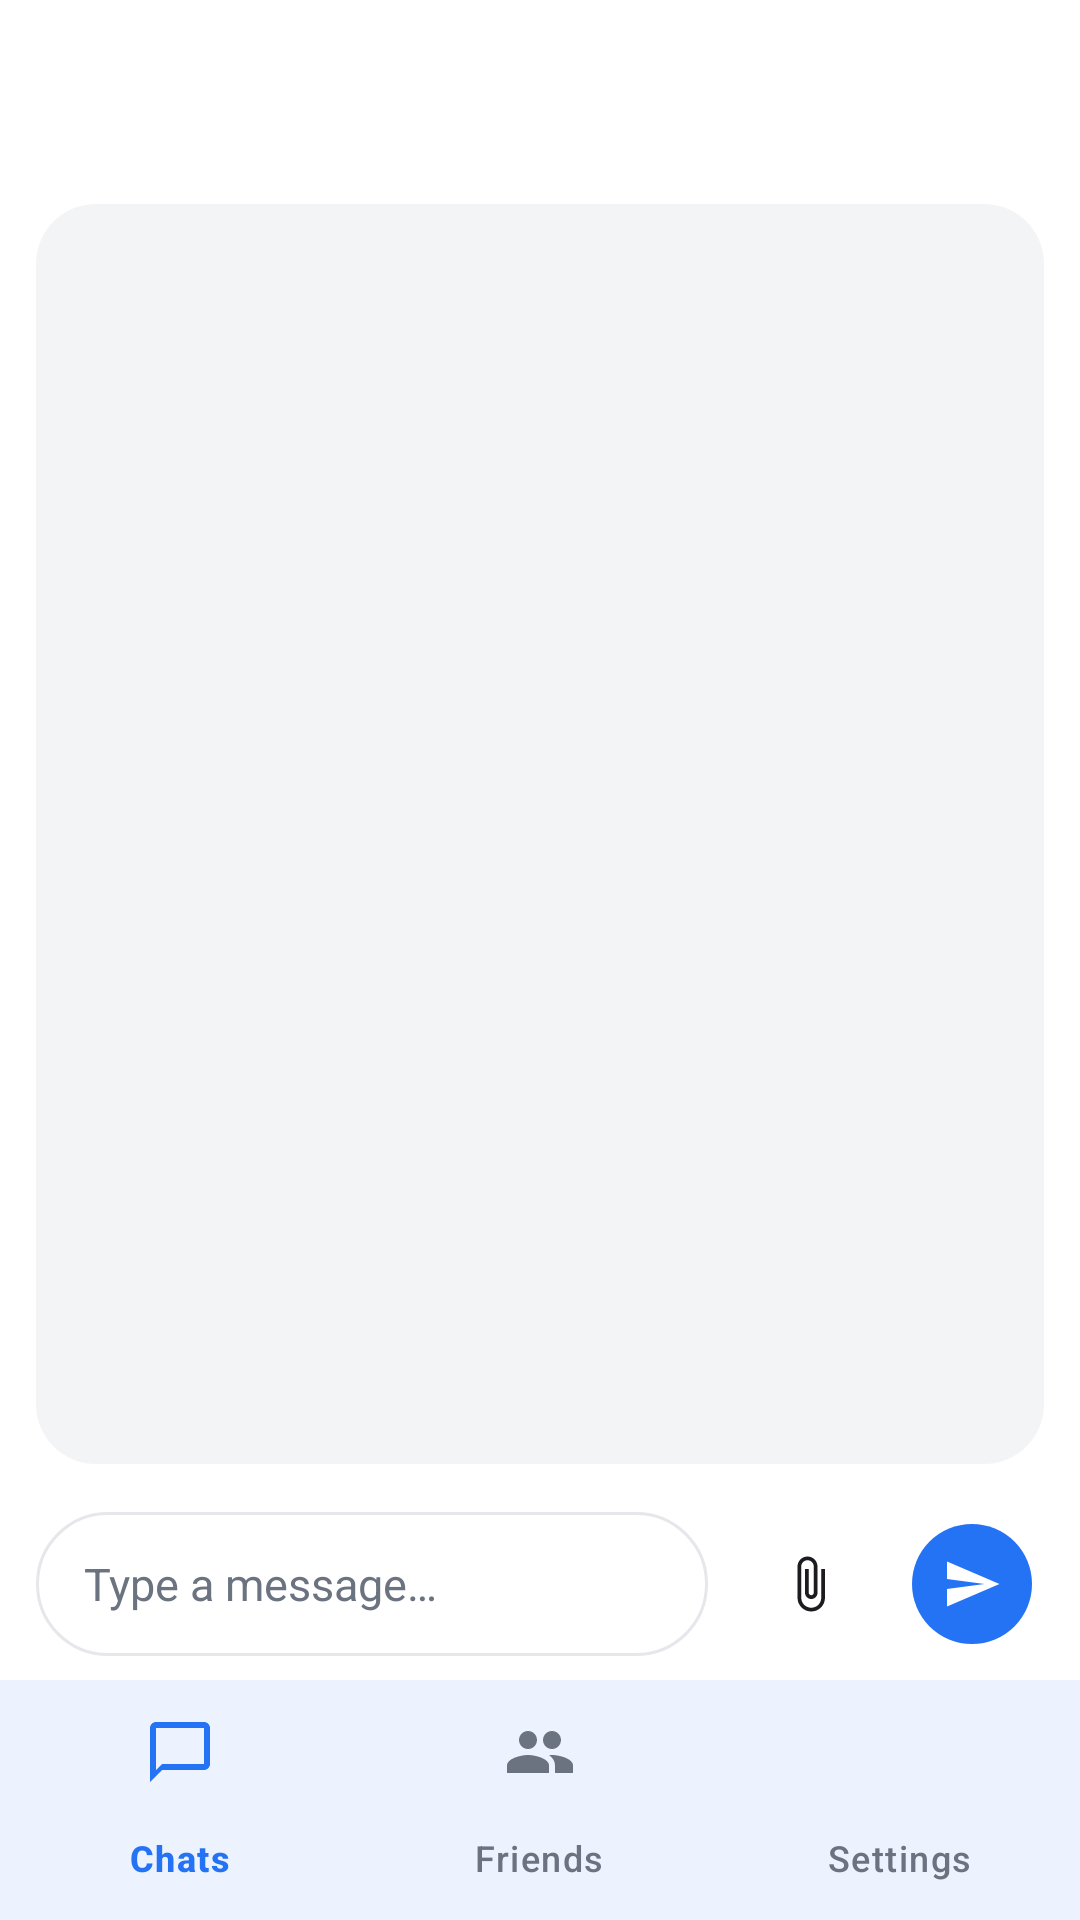

Named icons in this screenshot (1080 x 1920) and their bounding boxes, (x1, y1, x2, y2):
Attach file: (797, 1556, 825, 1612)
Send: (912, 1524, 1032, 1644)
